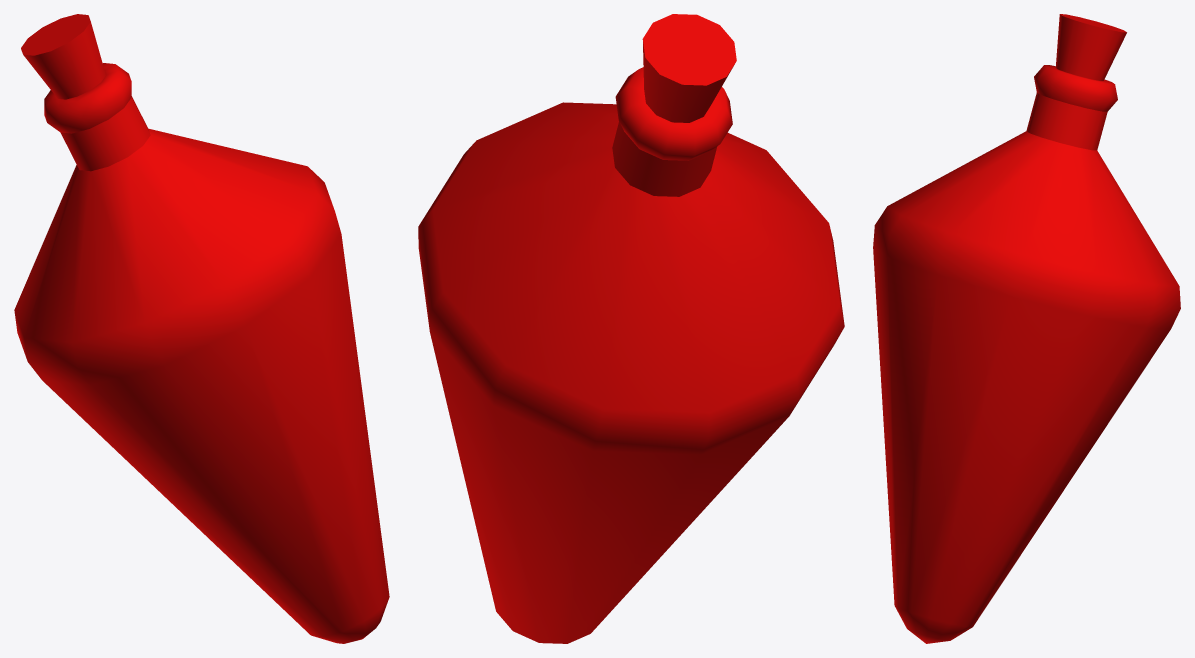
Rendered from Potions_10.fbx.
3 views of the same model, side by side, from view 1: azimuth 30°, elevation 25°; view 2: azimuth 150°, elevation 25°; view 3: azimuth 270°, elevation 25° (orthographic). The views are drawn at different scales.
Visible parts, largest first — view 1: Potion_10; view 2: Potion_10; view 3: Potion_10.
Boxes of the visible parts, x1,y1,x2,y2 form: Potion_10: [14, 14, 389, 643]; Potion_10: [418, 14, 844, 643]; Potion_10: [873, 14, 1180, 643].
Size of the model in its own units: 0.2827 by 0.2809 by 0.5457.
